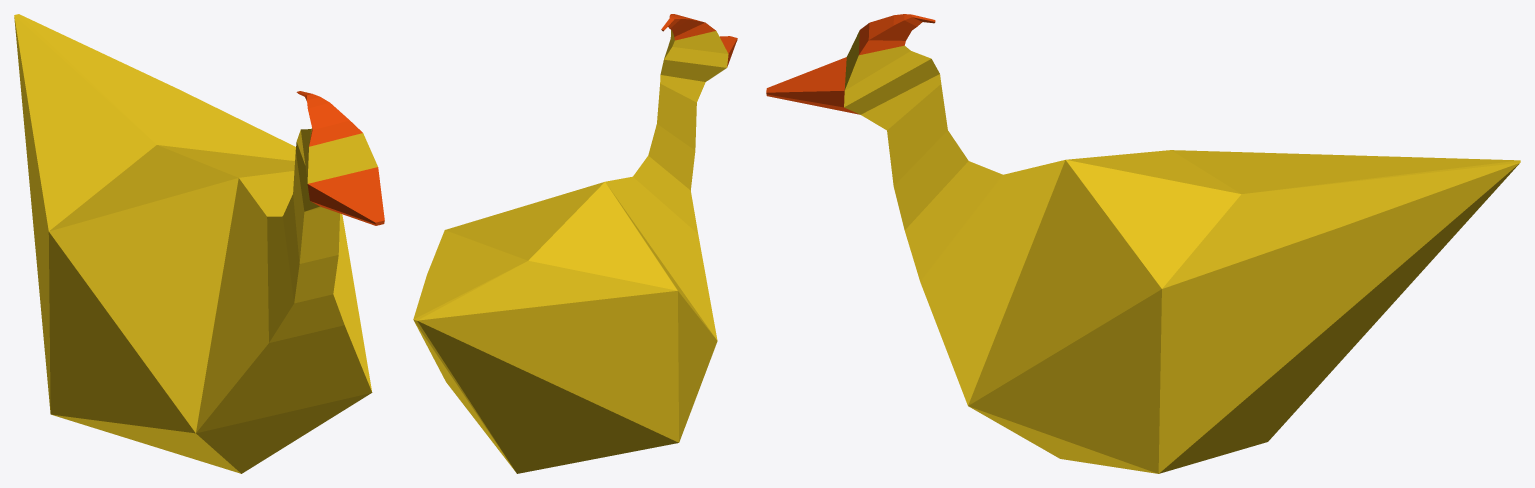
Rendered from Galinha.fbx.
The picture shows the model from 3 angles, left to right: view 1: azimuth 30°, elevation 25°; view 2: azimuth 150°, elevation 25°; view 3: azimuth 270°, elevation 25°; orthographic projection. The views are drawn at different scales.
Visible parts, largest first — view 1: Icosphere.002; view 2: Icosphere.002; view 3: Icosphere.002.
Boxes of the visible parts, <box> form: Icosphere.002: <box>14,14,384,473</box>; Icosphere.002: <box>413,14,737,473</box>; Icosphere.002: <box>766,14,1520,473</box>.
Size of the model in its own units: 170 by 251 by 389.
